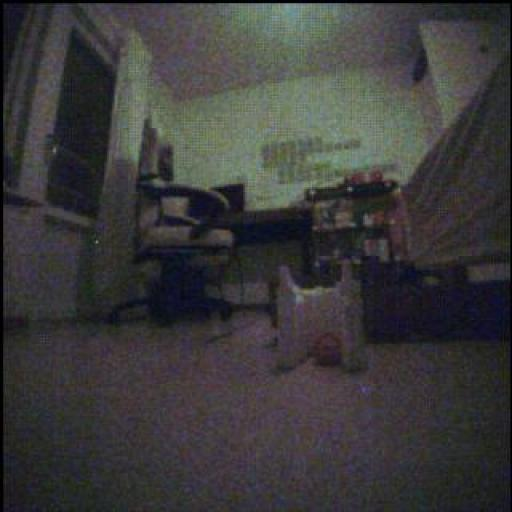basket: (313, 331, 342, 369)
